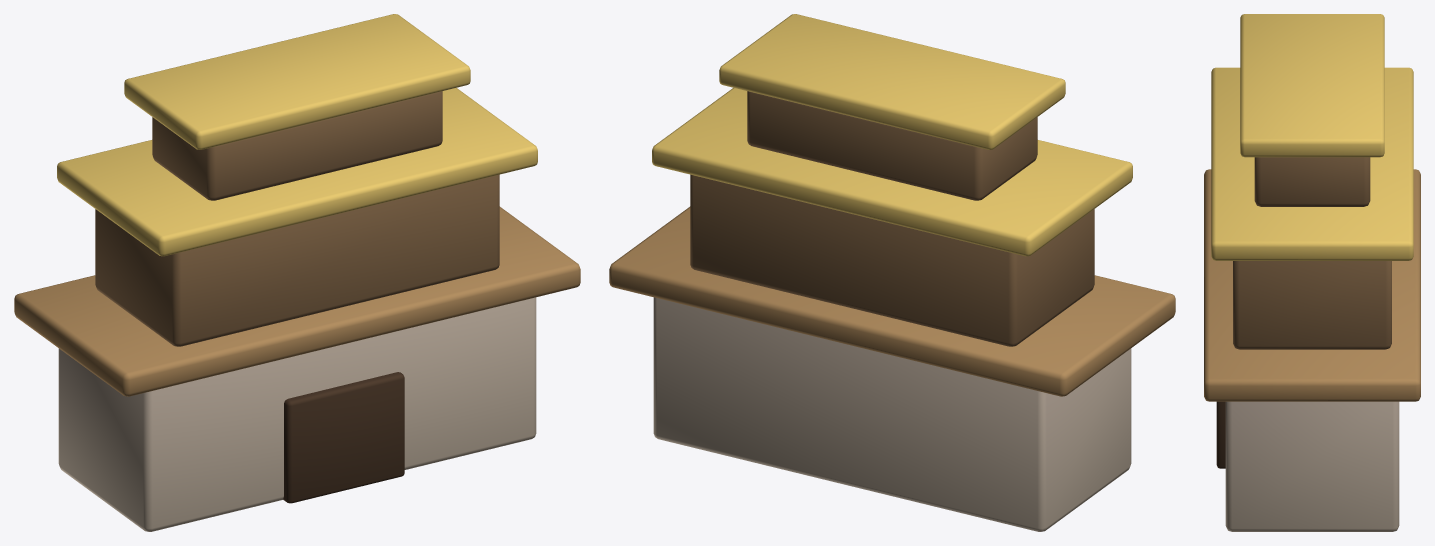
The picture shows the model from 3 angles, left to right: view 1: azimuth 30°, elevation 25°; view 2: azimuth 150°, elevation 25°; view 3: azimuth 270°, elevation 25°; orthographic projection. The views are drawn at different scales.
Parts seen in each view (by area): view 1: landmark_f2e607a2; view 2: landmark_f2e607a2; view 3: landmark_f2e607a2.
Part boxes in pixels (x1,y1,x2,y2): landmark_f2e607a2: (14, 14, 580, 531); landmark_f2e607a2: (609, 14, 1175, 531); landmark_f2e607a2: (1204, 14, 1420, 531).
Bounding box in the file's own units: 7 × 5.59 × 3.
